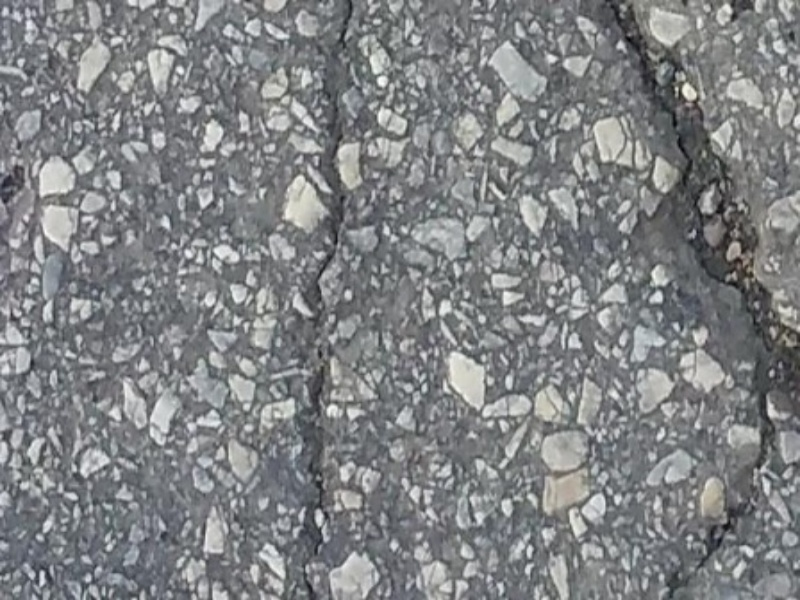crack: (601, 20, 800, 587), (279, 12, 361, 591)
